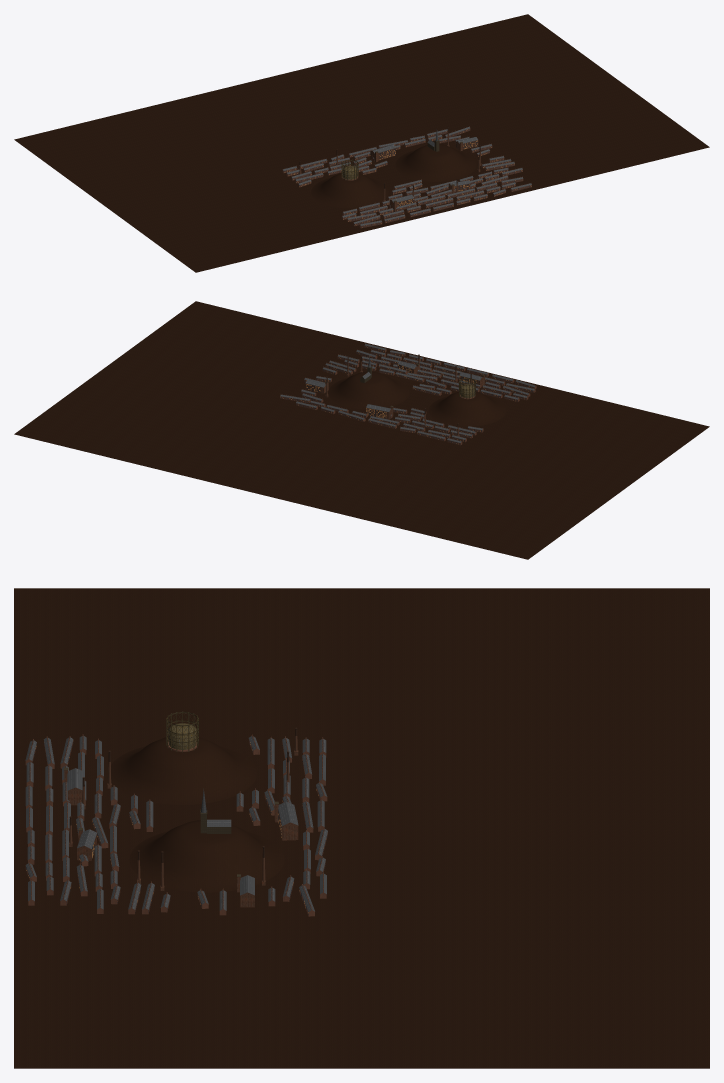
The model's file is far-town.glb.
3 views of the same model, one above another, from view 1: azimuth 30°, elevation 25°; view 2: azimuth 150°, elevation 25°; view 3: azimuth 270°, elevation 25° (orthographic). The views are drawn at different scales.
Visible parts, largest first — view 1: far-town-cinder-ground; view 2: far-town-cinder-ground; view 3: far-town-cinder-ground, far-town-gasholder-frame-and-bell, far-town-mill-3.
Boxes of the visible parts, x1,y1,x2,y2 form: far-town-cinder-ground: (14, 14, 709, 272); far-town-cinder-ground: (14, 301, 709, 559); far-town-cinder-ground: (14, 588, 709, 1068); far-town-gasholder-frame-and-bell: (166, 711, 198, 752); far-town-mill-3: (274, 801, 298, 840).
Bounding box in the file's own units: 1400 × 97.75 × 858.
10 materials, 10 textured.
